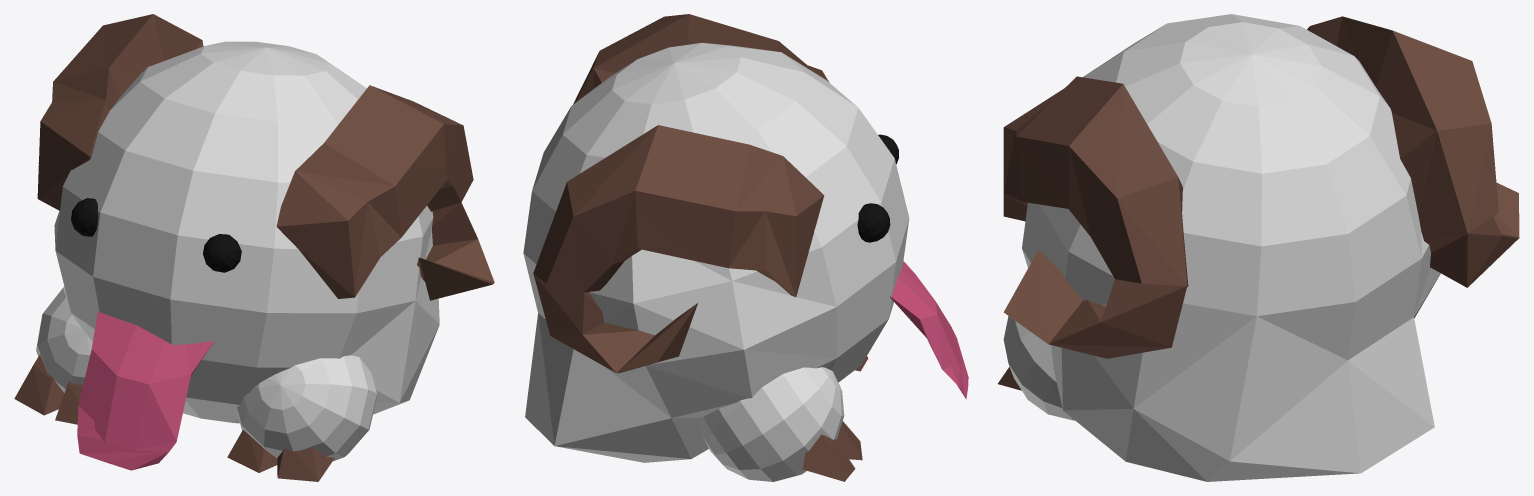
3 renders of one model, left to right at view 1: azimuth 30°, elevation 25°; view 2: azimuth 150°, elevation 25°; view 3: azimuth 270°, elevation 25°, orthographic. The views are drawn at different scales.
Visible parts, largest first — view 1: node_MeshObject1220319552-PolyPaper21; view 2: node_MeshObject1220319552-PolyPaper21; view 3: node_MeshObject1220319552-PolyPaper21.
Boxes of the visible parts, bbox=[...] form: node_MeshObject1220319552-PolyPaper21: bbox=[14, 14, 494, 481]; node_MeshObject1220319552-PolyPaper21: bbox=[523, 14, 968, 481]; node_MeshObject1220319552-PolyPaper21: bbox=[998, 14, 1519, 481].
Bounding box in the file's own units: 0.3438 × 0.2957 × 0.3612.
